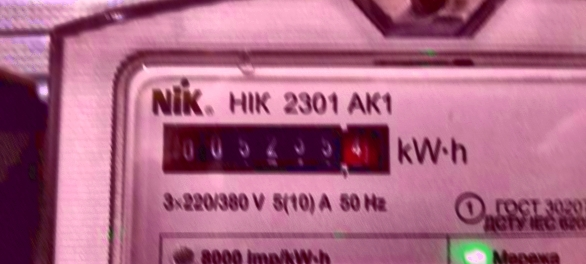0: (180, 136, 196, 162), (209, 133, 223, 159)
2: (264, 132, 278, 157)
3: (292, 129, 306, 155)
4: (349, 133, 364, 159)
5: (319, 130, 334, 157), (236, 132, 251, 158)
screen: (153, 112, 402, 184)
